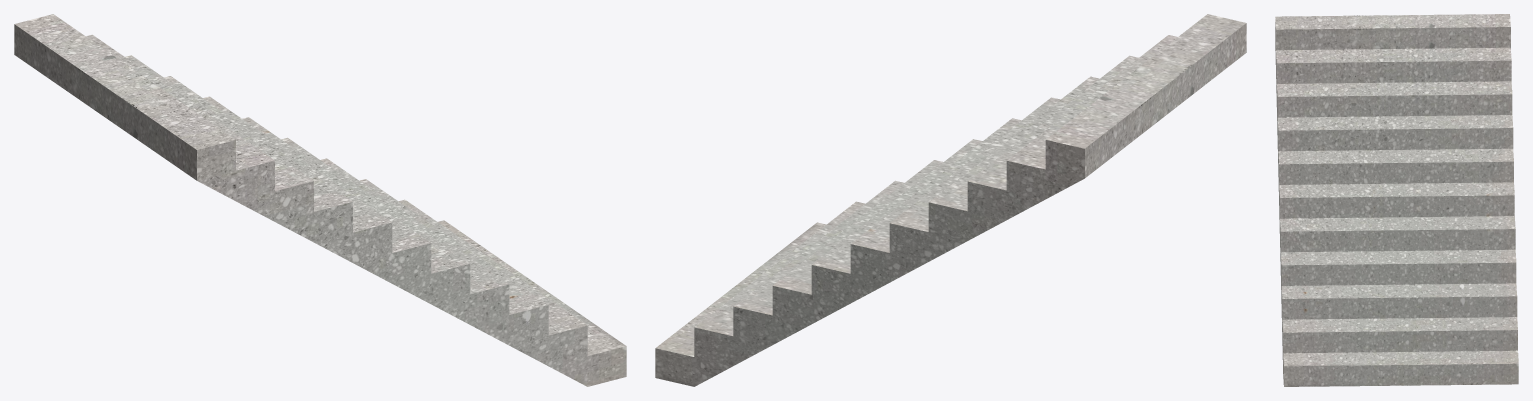
File: 0328下樓梯.fbx
The picture shows the model from 3 angles, left to right: view 1: azimuth 30°, elevation 25°; view 2: azimuth 150°, elevation 25°; view 3: azimuth 270°, elevation 25°; orthographic projection. The views are drawn at different scales.
Parts seen in each view (by area): view 1: StraightStair005; view 2: StraightStair005; view 3: StraightStair005.
Part boxes in pixels (<box>): StraightStair005: <box>14,14,626,386</box>; StraightStair005: <box>655,14,1246,386</box>; StraightStair005: <box>1275,14,1518,386</box>.
Bounding box in the file's own units: 86.67 × 63.03 × 61.24.
1 material, 1 textured.
